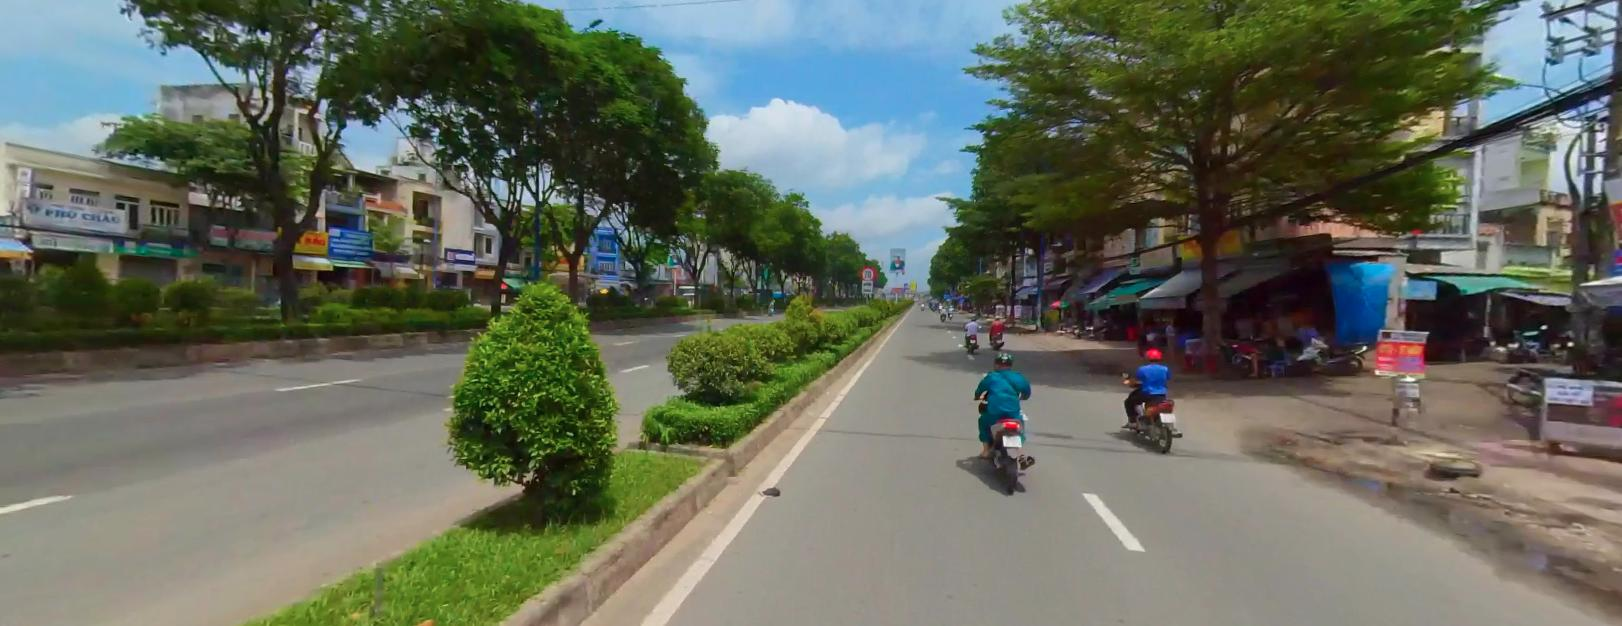Gioi han toc do: (860, 264, 875, 278), (860, 265, 874, 279), (860, 265, 874, 278)
